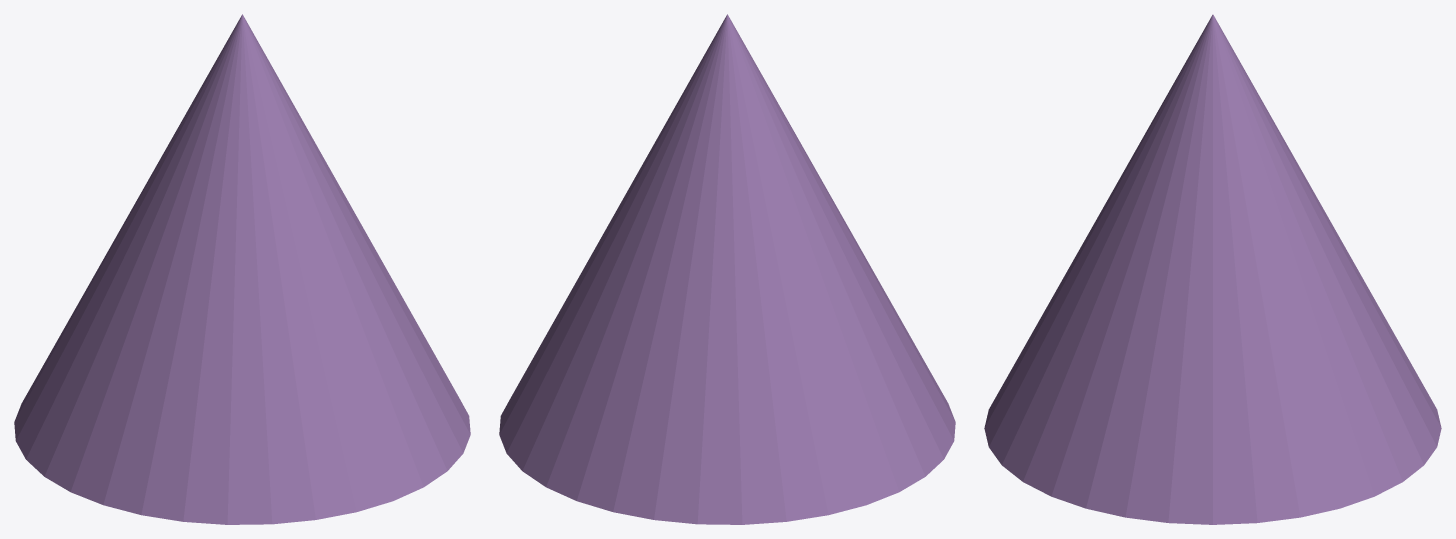
The model's file is prop_cone_purple.glb.
The picture shows the model from 3 angles, left to right: view 1: azimuth 30°, elevation 25°; view 2: azimuth 150°, elevation 25°; view 3: azimuth 270°, elevation 25°; orthographic projection.
Visible parts, largest first — view 1: geometry_0; view 2: geometry_0; view 3: geometry_0.
Boxes of the visible parts, left/top/right/bottom form: geometry_0: left=14, top=14, right=470, bottom=524; geometry_0: left=499, top=14, right=955, bottom=524; geometry_0: left=984, top=14, right=1441, bottom=524.
Bounding box in the file's own units: 0.5 × 0.5 × 0.5.
